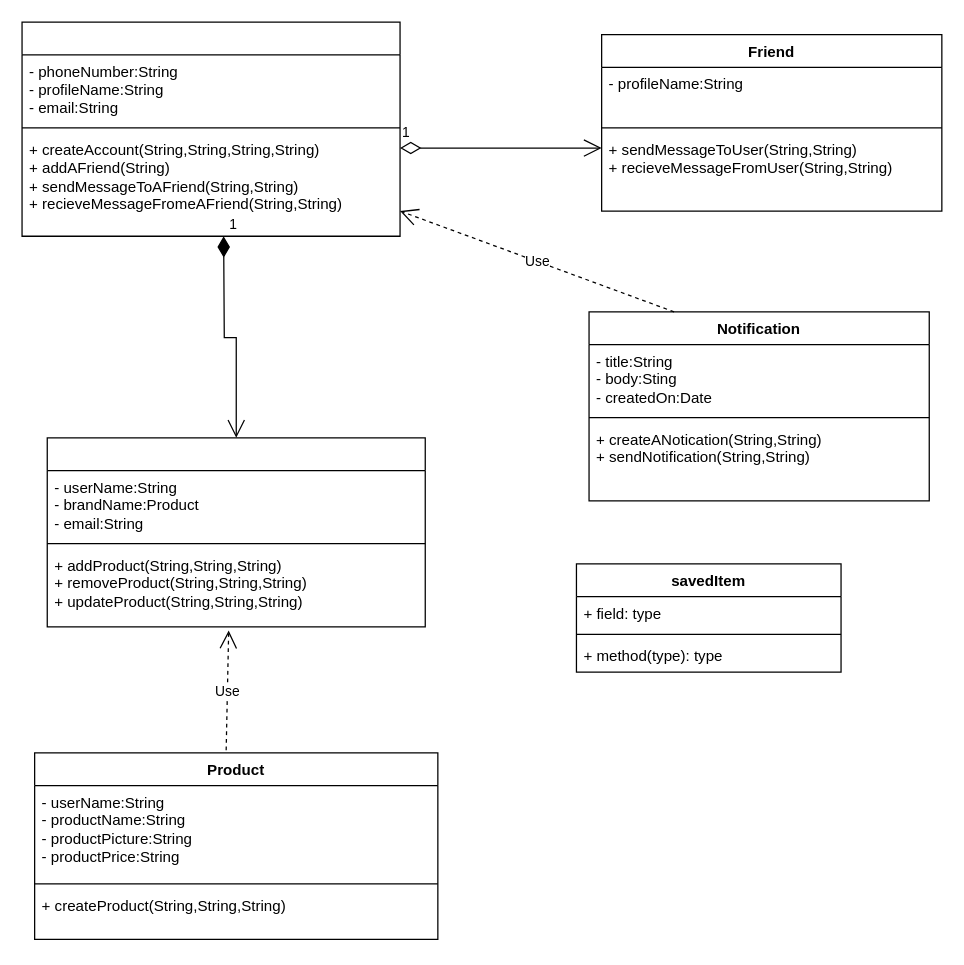
This 964x965 diagram has some shape labels left out. The shapes that lost their labels are listed below. From the top down, each one's box as (x1, y1, x2, y2) in pixels, then its label:
(21, 21, 400, 236): User
(46, 437, 425, 627): MarketSpace
